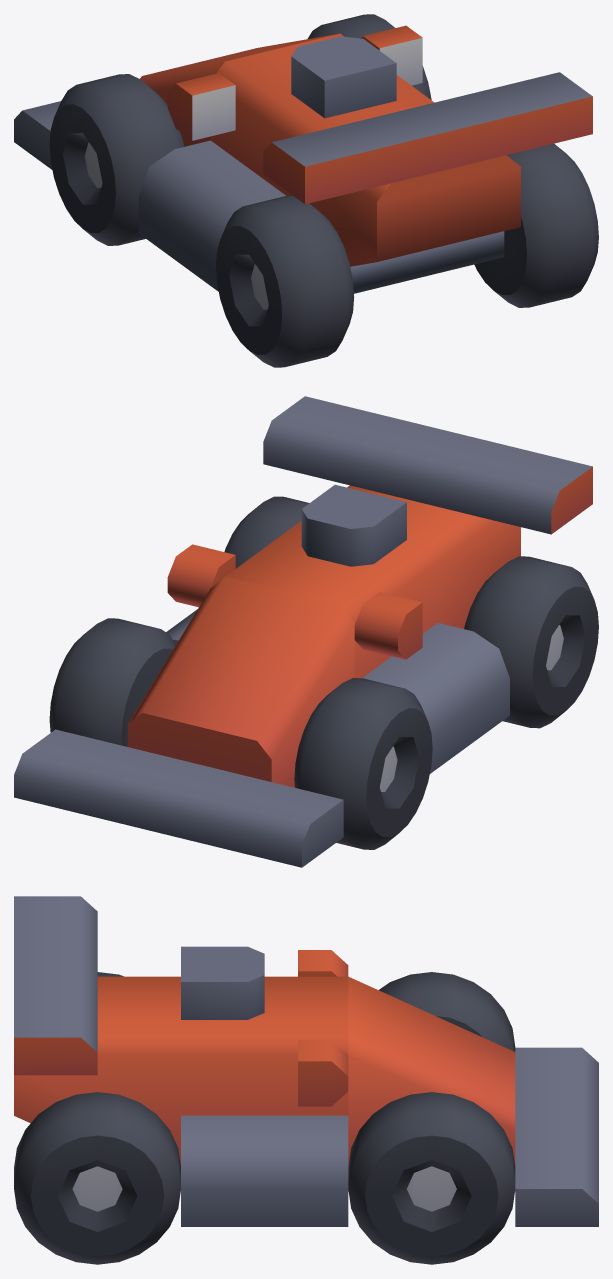
File: toy-speedster.glb
3 views of the same model, one above another, from view 1: azimuth 30°, elevation 25°; view 2: azimuth 150°, elevation 25°; view 3: azimuth 270°, elevation 25° (orthographic).
Parts seen in each view (by area): view 1: vehicle-speedster, wheel-bl, wheel-fl, wheel-br, wheel-fr; view 2: vehicle-speedster, wheel-fl, wheel-bl, wheel-fr, wheel-br; view 3: vehicle-speedster, wheel-fr, wheel-br, wheel-fl.
Part boxes in pixels (x1,y1,x2,y2): vehicle-speedster: (14, 25, 592, 293); wheel-bl: (216, 196, 354, 367); wheel-fl: (49, 74, 184, 245); wheel-br: (474, 143, 598, 307); wheel-fr: (307, 14, 431, 99); vehicle-speedster: (14, 396, 592, 867); wheel-fl: (294, 678, 432, 849); wheel-bl: (464, 556, 598, 728); wheel-fr: (49, 618, 175, 746); wheel-br: (224, 496, 309, 568); vehicle-speedster: (14, 896, 598, 1226); wheel-fr: (348, 1092, 515, 1264); wheel-br: (14, 1092, 180, 1264); wheel-fl: (379, 972, 515, 1051).
Bounding box in the file's own units: 0.55 × 0.375 × 0.875.
